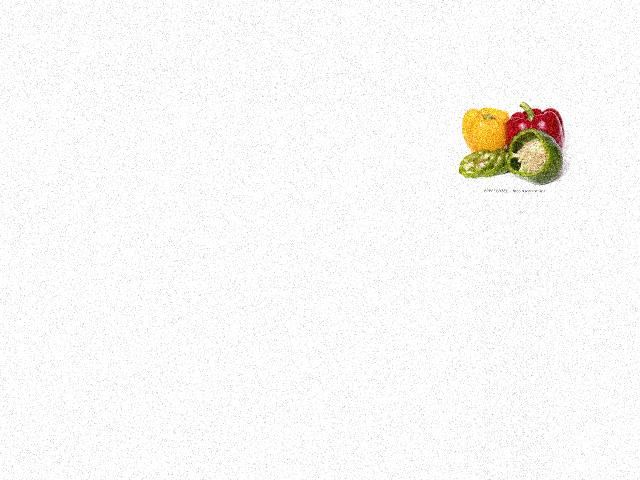bell_pepper: (506, 127, 568, 180)
